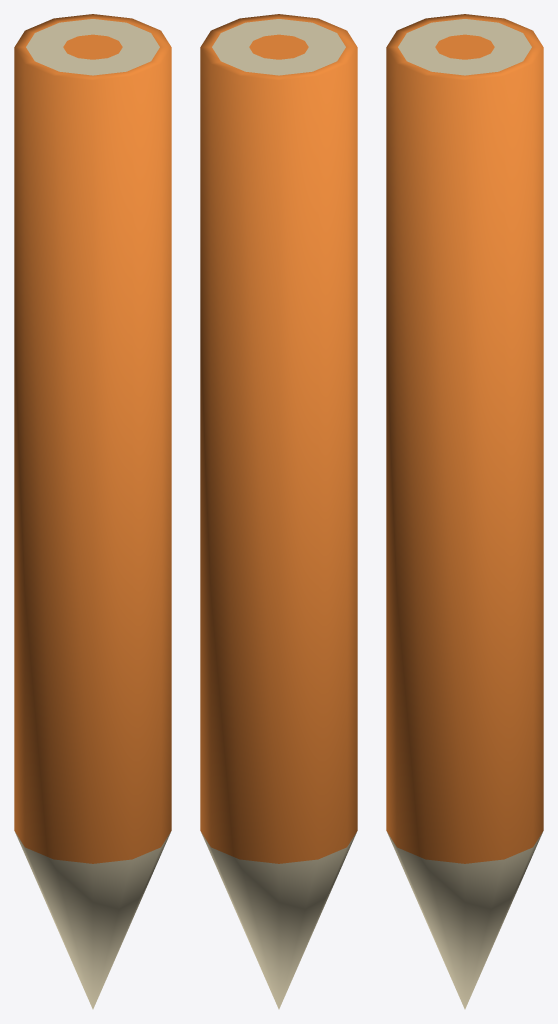
The model's file is Lapis3.fbx.
The picture shows the model from 3 angles, left to right: view 1: azimuth 30°, elevation 25°; view 2: azimuth 150°, elevation 25°; view 3: azimuth 270°, elevation 25°; orthographic projection.
Parts seen in each view (by area): view 1: Lapis; view 2: Lapis; view 3: Lapis.
Part boxes in pixels (left/top/right/bottom): Lapis: left=14, top=14, right=171, bottom=1009; Lapis: left=200, top=14, right=357, bottom=1009; Lapis: left=386, top=14, right=543, bottom=1009.
Size of the model in its own units: 76.18 by 515 by 76.18.
Materials: 1 (1 with a texture image).
